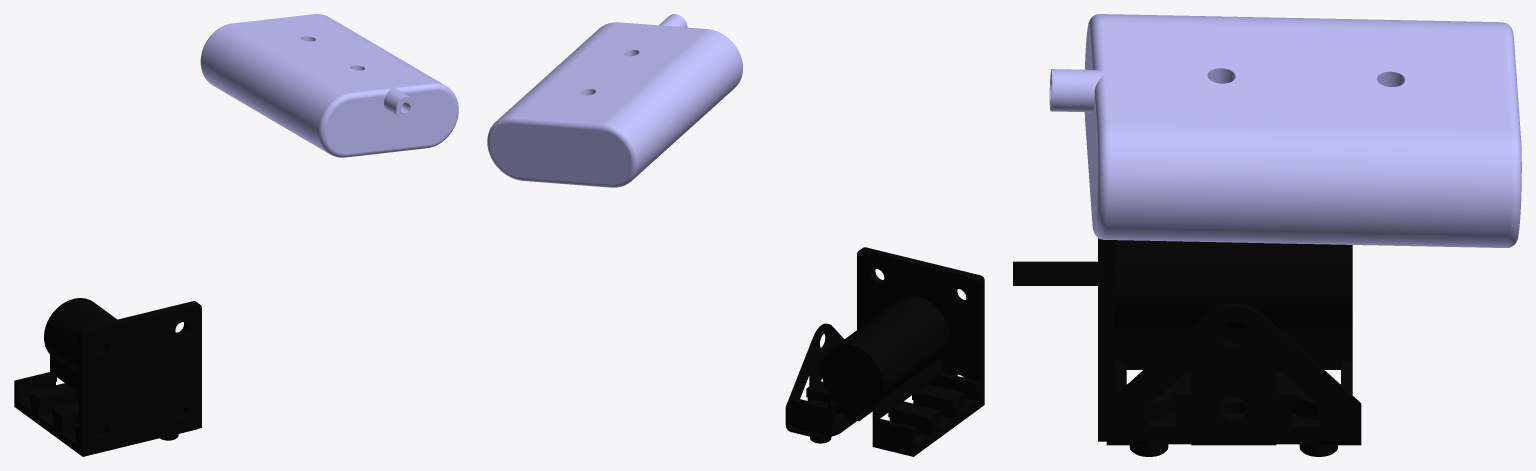
3 renders of one model, left to right at view 1: azimuth 30°, elevation 25°; view 2: azimuth 150°, elevation 25°; view 3: azimuth 270°, elevation 25°, orthographic. The views are drawn at different scales.
Parts seen in each view (by area): view 1: white-pw-mt11050, cast iron, polished bronze; view 2: white-pw-mt11050, cast iron, matte zinc; view 3: white-pw-mt11050, cast iron, matte zinc, polished bronze.
Part boxes in pixels (x1,y1,x2,y2): white-pw-mt11050: [200, 14, 458, 157]; cast iron: [14, 298, 201, 456]; polished bronze: [136, 373, 169, 401]; white-pw-mt11050: [487, 14, 742, 187]; cast iron: [790, 247, 984, 456]; matte zinc: [785, 323, 856, 443]; white-pw-mt11050: [1049, 14, 1521, 247]; cast iron: [1098, 238, 1352, 441]; matte zinc: [1106, 304, 1361, 456]; polished bronze: [1013, 261, 1097, 285].
Bounding box in the file's own units: 12.1 × 9.57 × 7.61.
